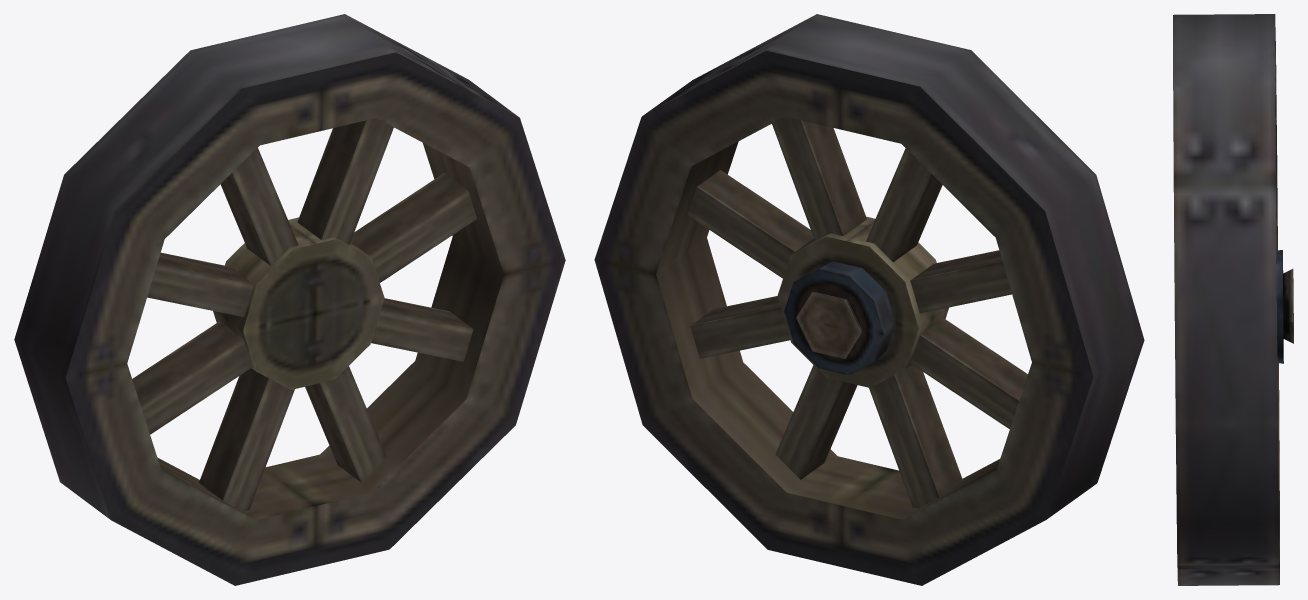
File: DN_lv3_hd_woodwheel.FBX
3 views of the same model, side by side, from view 1: azimuth 30°, elevation 25°; view 2: azimuth 150°, elevation 25°; view 3: azimuth 270°, elevation 25° (orthographic).
Visible parts, largest first — view 1: DN_lv3_hd_woodwheel; view 2: DN_lv3_hd_woodwheel; view 3: DN_lv3_hd_woodwheel.
Part boxes in pixels (bbox=[...]): DN_lv3_hd_woodwheel: bbox=[14, 14, 565, 585]; DN_lv3_hd_woodwheel: bbox=[594, 14, 1144, 585]; DN_lv3_hd_woodwheel: bbox=[1173, 14, 1293, 585].
Bounding box in the file's own units: 108 × 103 × 22.62.
